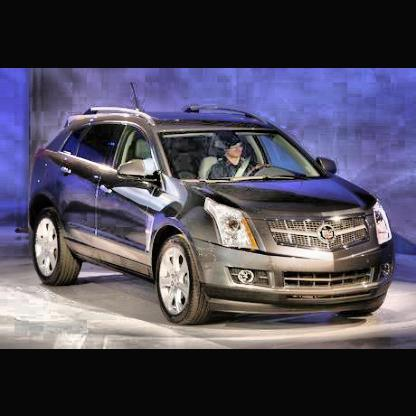Cadillac SRX SUV 2012: (30, 81, 396, 327)
